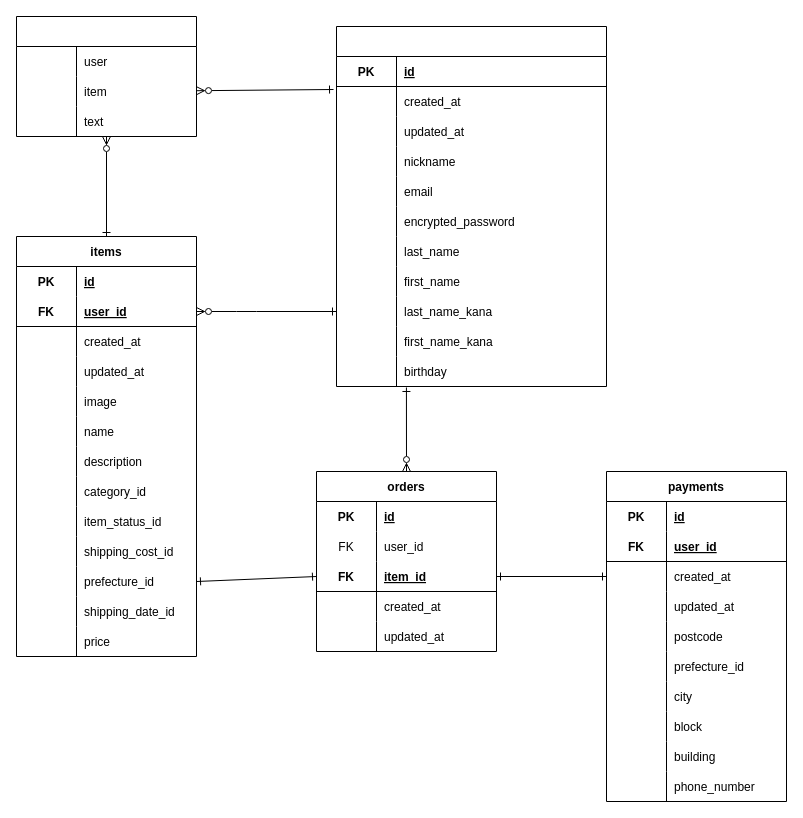
Some shapes in this 803 by 818 pixel diagram are drawn without their labels. Here are the shapes that lost their labels. From the top down, the box of each, then its label:
(16, 16, 196, 136): comments
(336, 26, 606, 386): users
